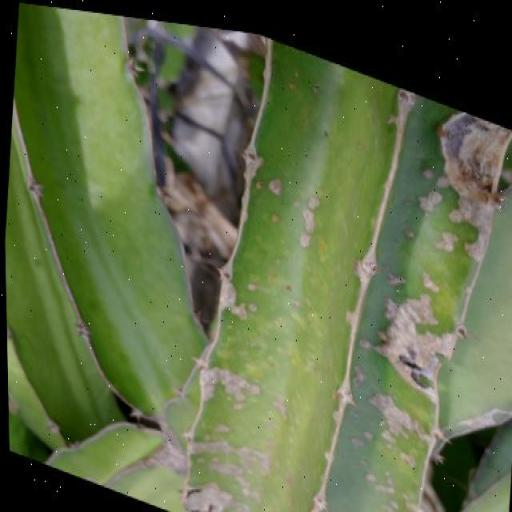stemcanker: (418, 164, 436, 184), (401, 224, 418, 245), (270, 210, 282, 227), (246, 280, 260, 294), (283, 282, 295, 296), (247, 302, 259, 315), (255, 179, 267, 192), (287, 79, 297, 94), (384, 468, 392, 478)
